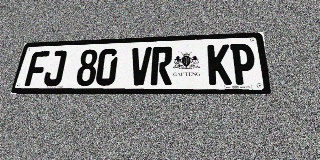0: (95, 48, 119, 86)
8: (75, 49, 99, 86)
F: (24, 51, 50, 86)
J: (42, 50, 67, 86)
K: (207, 44, 232, 85)
P: (230, 43, 257, 85)
R: (150, 46, 173, 85)
V: (129, 47, 152, 85)
